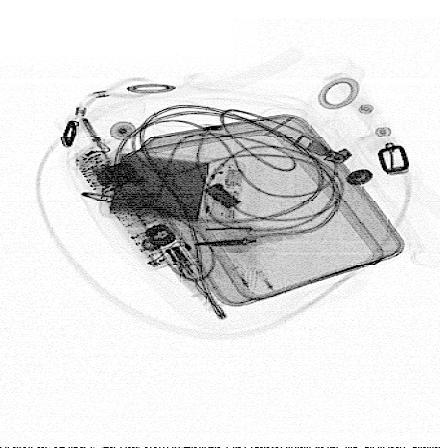Powerbank: (96, 146, 247, 224)
